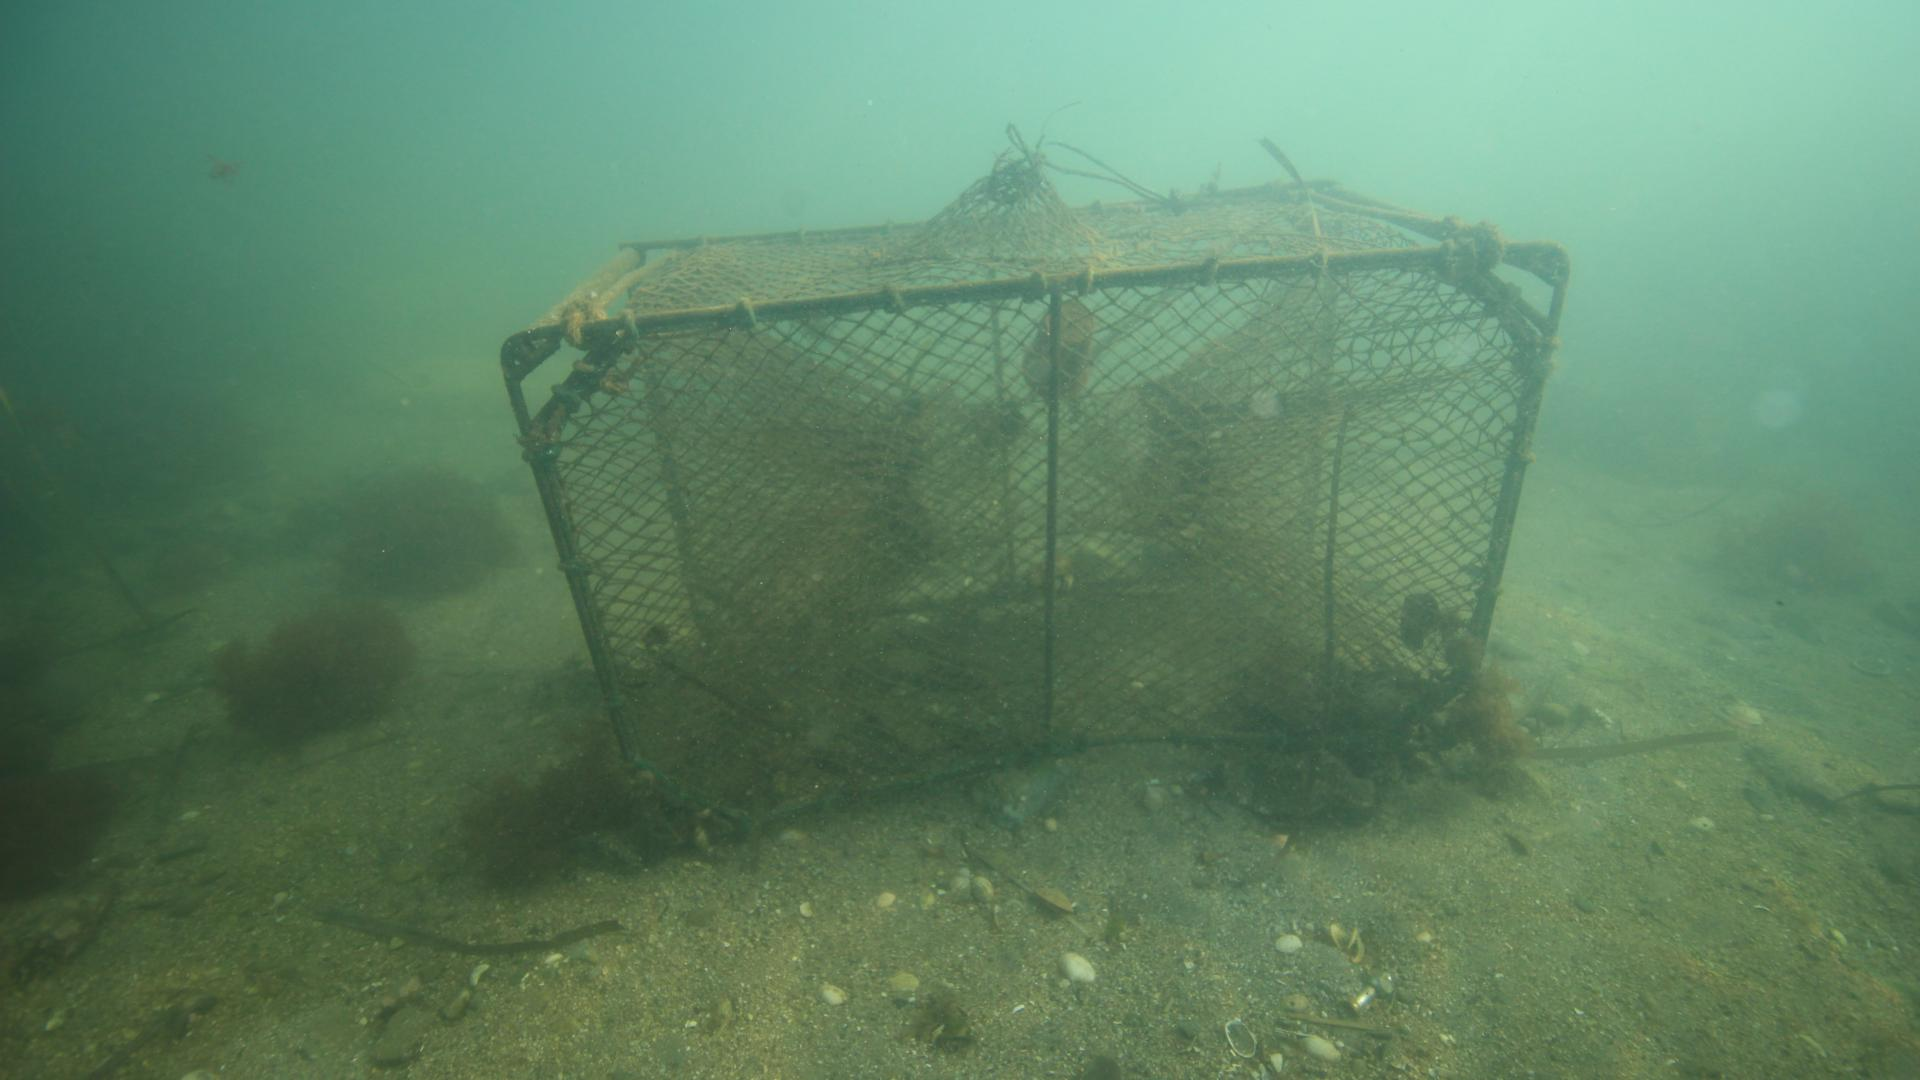rectangular fish trap: (495, 170, 1573, 858)
